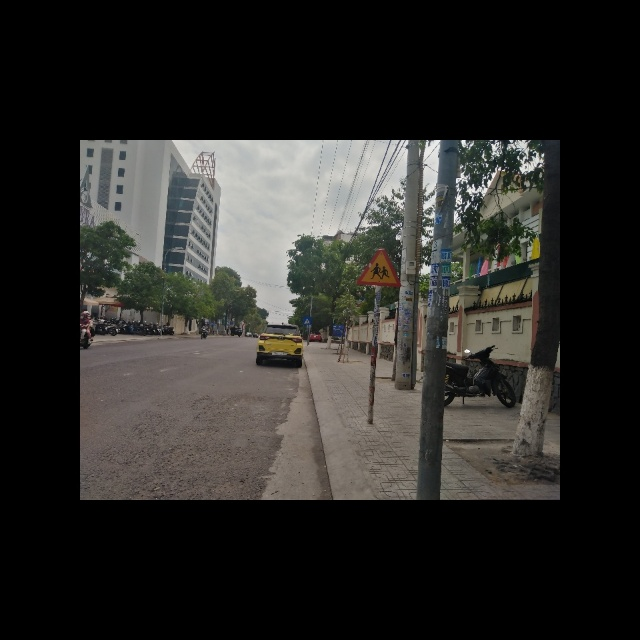Trẻ em ngang qua: (356, 249, 400, 286)
Đường dành cho người đi bộ: (302, 317, 312, 325)
